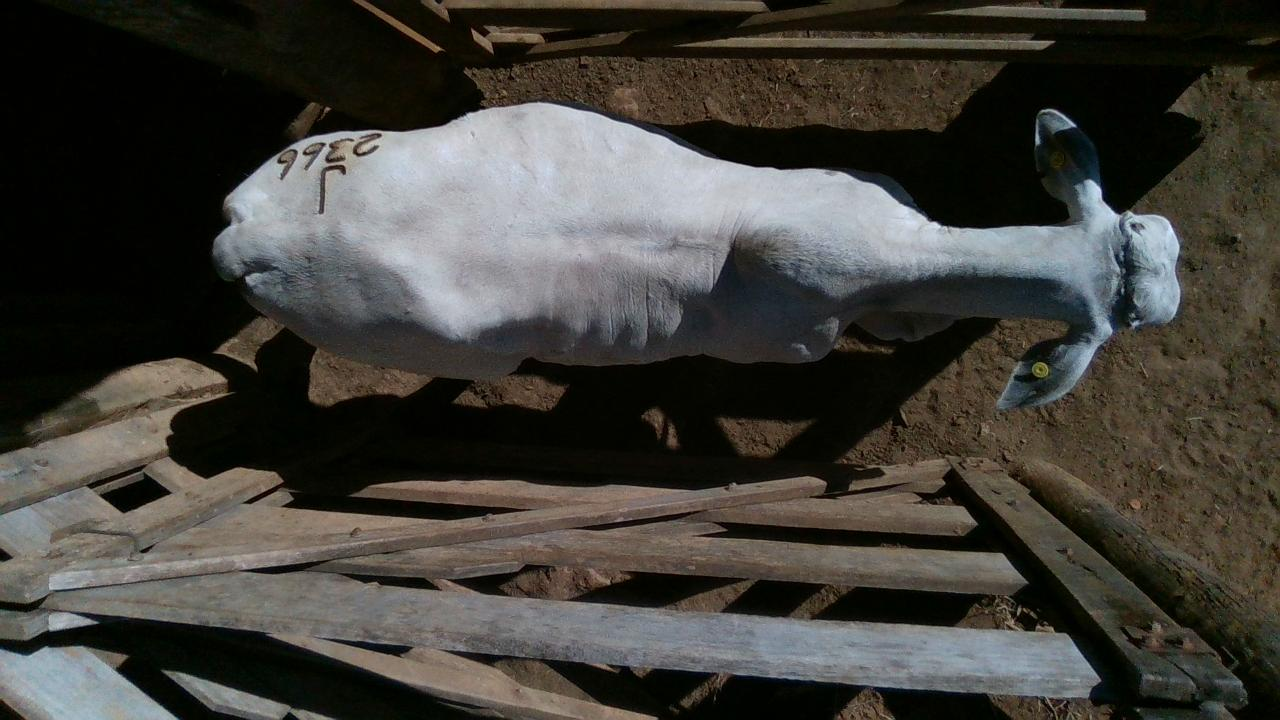cattle: (210, 97, 1182, 412)
